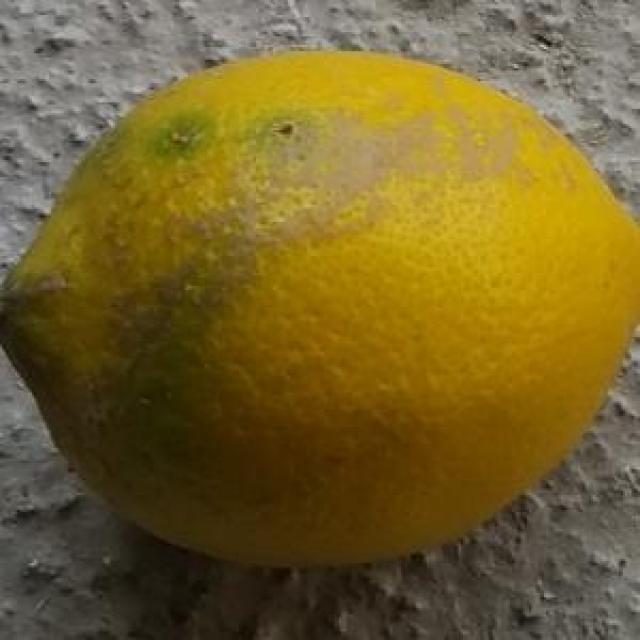lemon: (0, 46, 640, 557)
